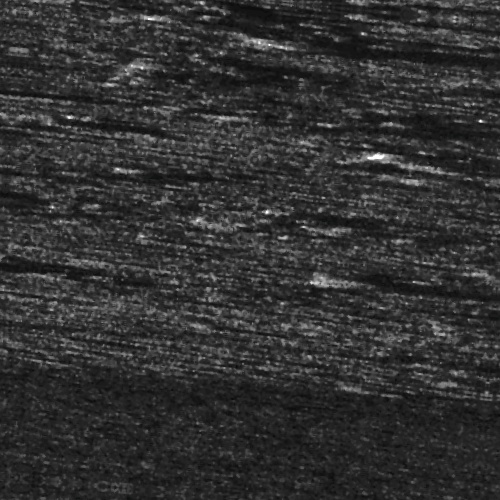object: (309, 134, 434, 151), (352, 143, 467, 158), (212, 31, 305, 46), (352, 159, 445, 168), (308, 266, 381, 275), (119, 19, 192, 28), (329, 370, 382, 379), (335, 1, 408, 6), (4, 136, 67, 141)
shadow: (259, 31, 500, 46), (156, 19, 500, 28), (372, 134, 500, 151), (0, 280, 145, 291), (345, 266, 500, 275), (410, 143, 500, 158), (356, 370, 500, 379), (399, 159, 500, 168), (36, 136, 172, 141), (372, 1, 500, 6), (0, 110, 115, 115)
